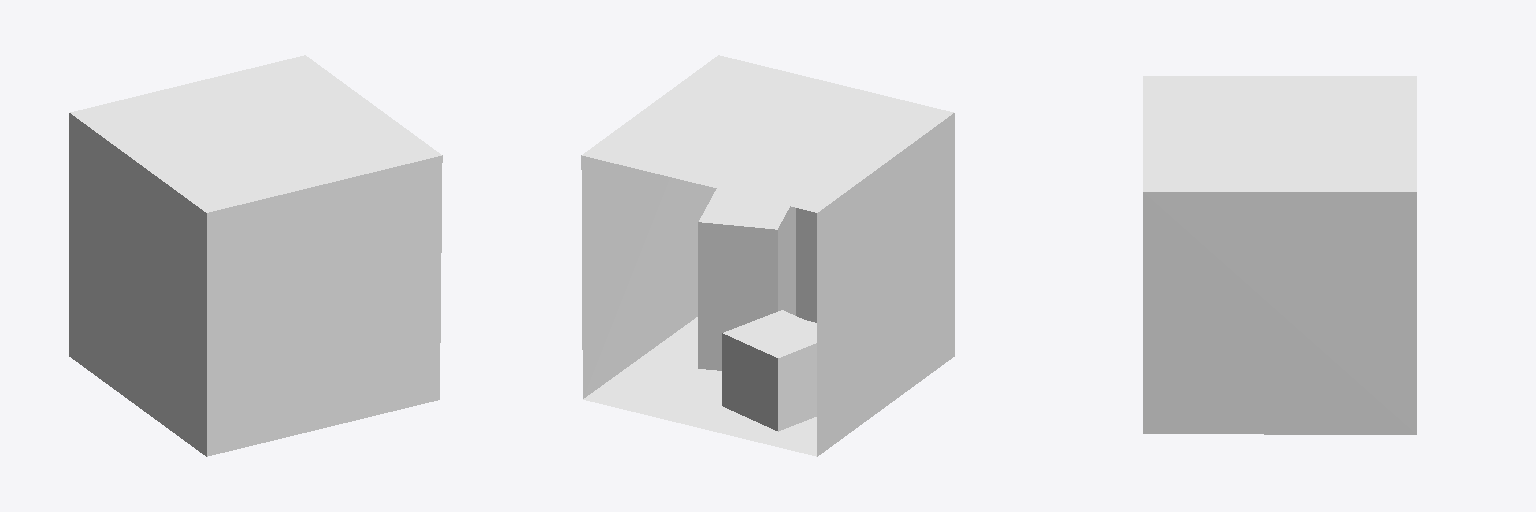
The model's file is cornell_tess4.obj.
The picture shows the model from 3 angles: view 1: azimuth 30°, elevation 25°; view 2: azimuth 150°, elevation 25°; view 3: azimuth 270°, elevation 25°; orthographic projection.
Visible parts, largest first — view 1: back_wall, green_wall, ceiling; view 2: green_wall, ceiling, red_wall, tall_block, floor, short_block, back_wall; view 3: red_wall, ceiling.
Part boxes in pixels (bbox=[...]): back_wall: bbox=[207, 155, 442, 456]; green_wall: bbox=[69, 113, 206, 456]; ceiling: bbox=[70, 55, 441, 212]; green_wall: bbox=[817, 113, 954, 456]; ceiling: bbox=[582, 55, 953, 212]; red_wall: bbox=[581, 155, 716, 398]; tall_block: bbox=[698, 189, 795, 370]; floor: bbox=[583, 317, 816, 456]; short_block: bbox=[722, 310, 816, 431]; back_wall: bbox=[796, 208, 816, 322]; red_wall: bbox=[1143, 192, 1416, 434]; ceiling: bbox=[1143, 76, 1416, 191].
Size of the model in its own units: 556 by 549 by 559.